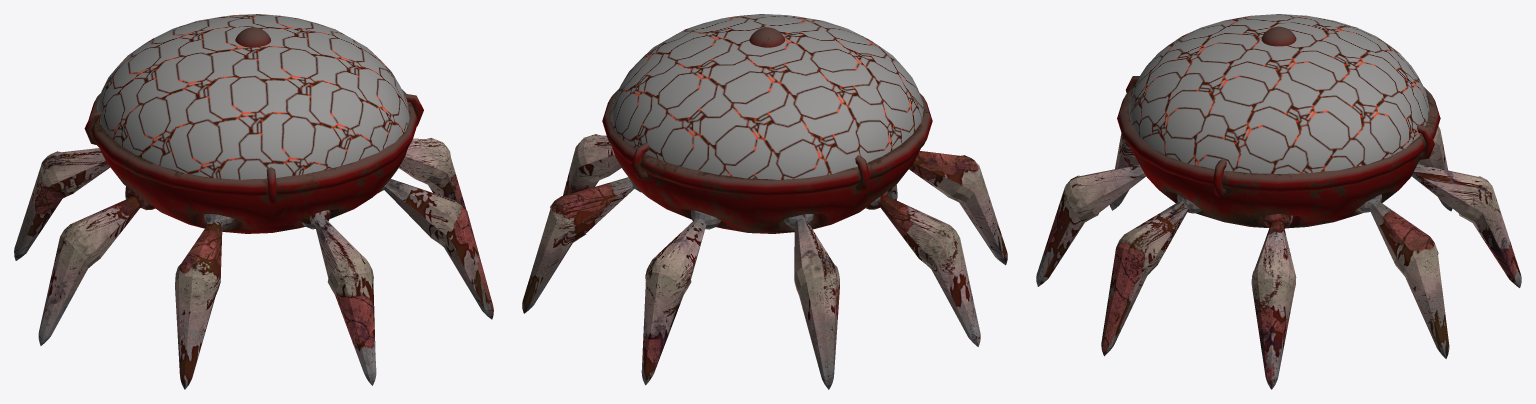
File: Alien Boss.fbx
The picture shows the model from 3 angles, left to right: view 1: azimuth 30°, elevation 25°; view 2: azimuth 150°, elevation 25°; view 3: azimuth 270°, elevation 25°; orthographic projection. The views are drawn at different scales.
Visible parts, largest first — view 1: Corpo, Perna; view 2: Corpo, Perna; view 3: Corpo, Perna.
Part boxes in pixels (bbox=[...]): Corpo: bbox=[84, 14, 423, 233]; Perna: bbox=[14, 138, 493, 389]; Corpo: bbox=[602, 14, 932, 233]; Perna: bbox=[522, 134, 1007, 389]; Corpo: bbox=[1117, 14, 1440, 228]; Perna: bbox=[1036, 126, 1521, 389].
Bounding box in the file's own units: 1291 × 764 × 1290.
